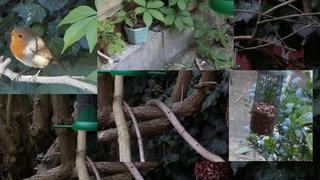robin: (5, 27, 71, 86)
